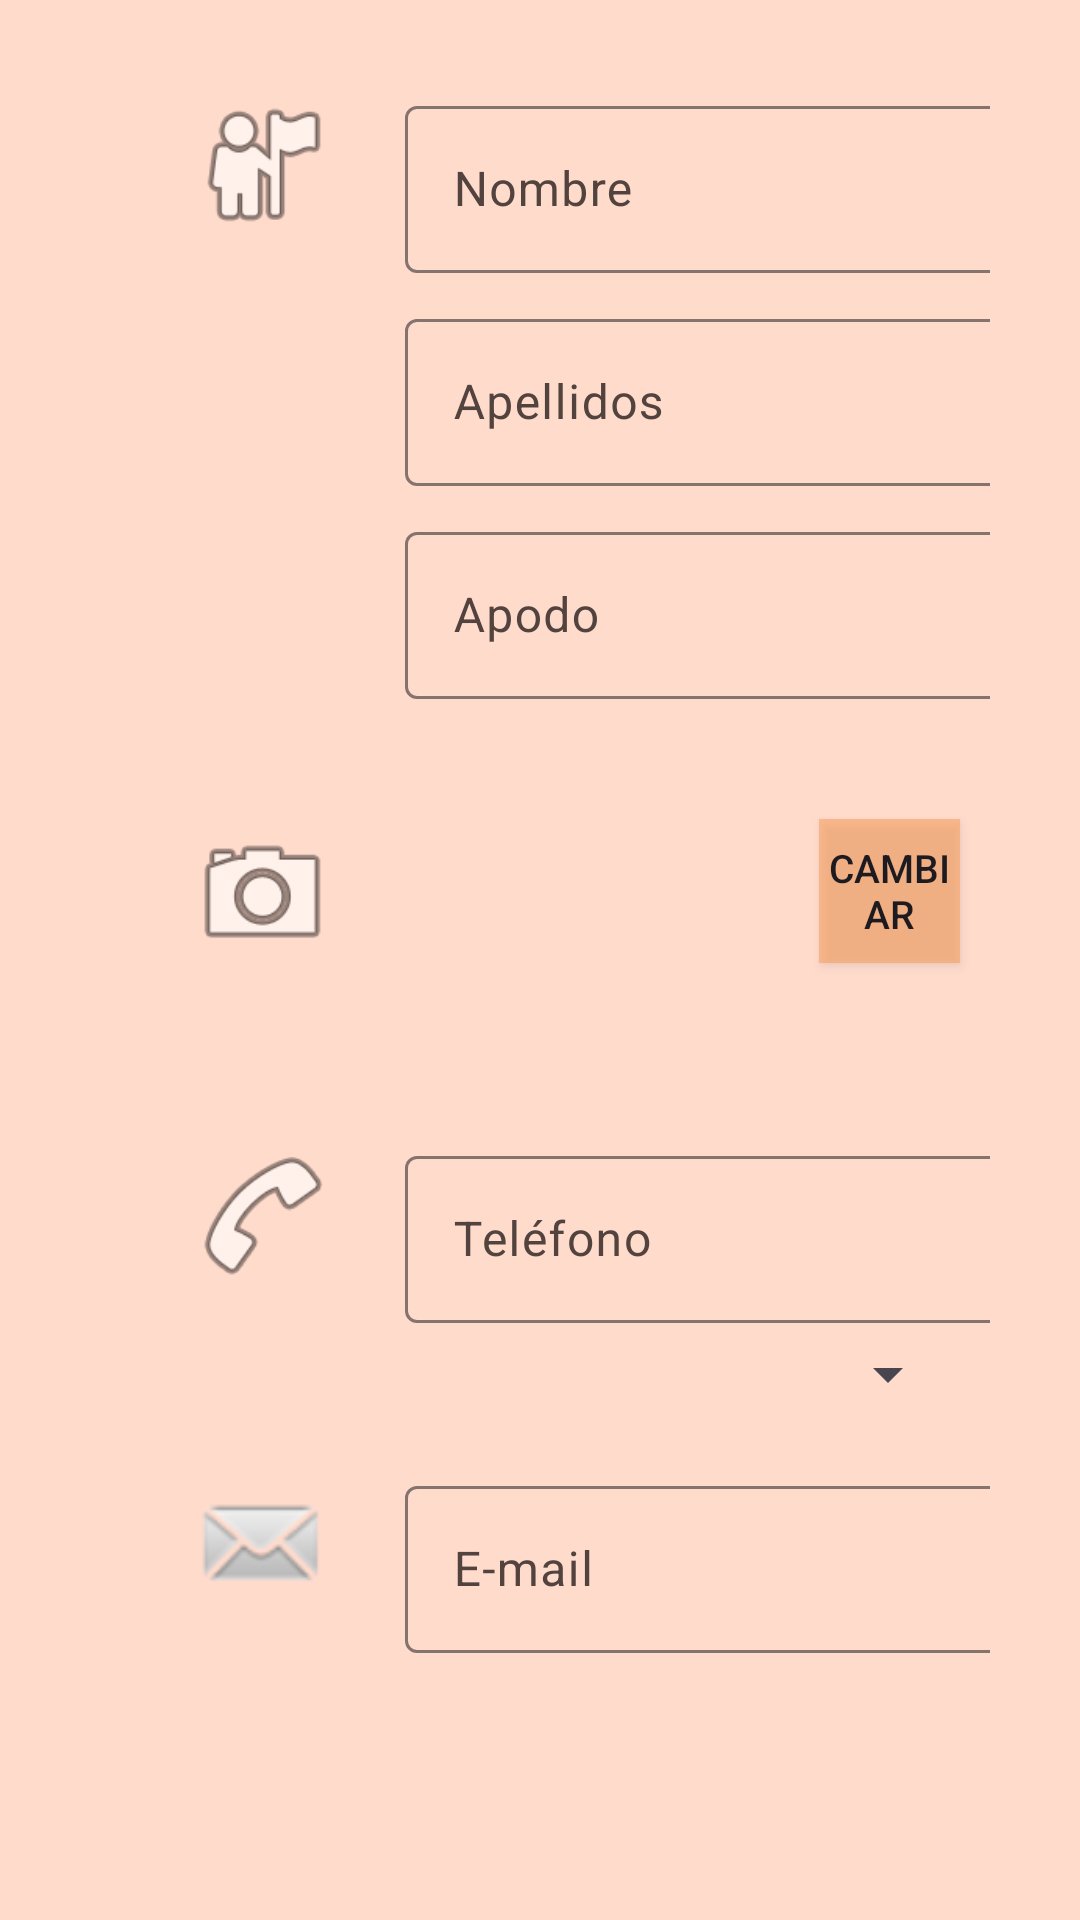

Icons on this 1080 x 1920 Android screen, each with the point to tap as [x,y]:
call: [263,1216]
camera: [262,891]
myplaces: [264,165]
